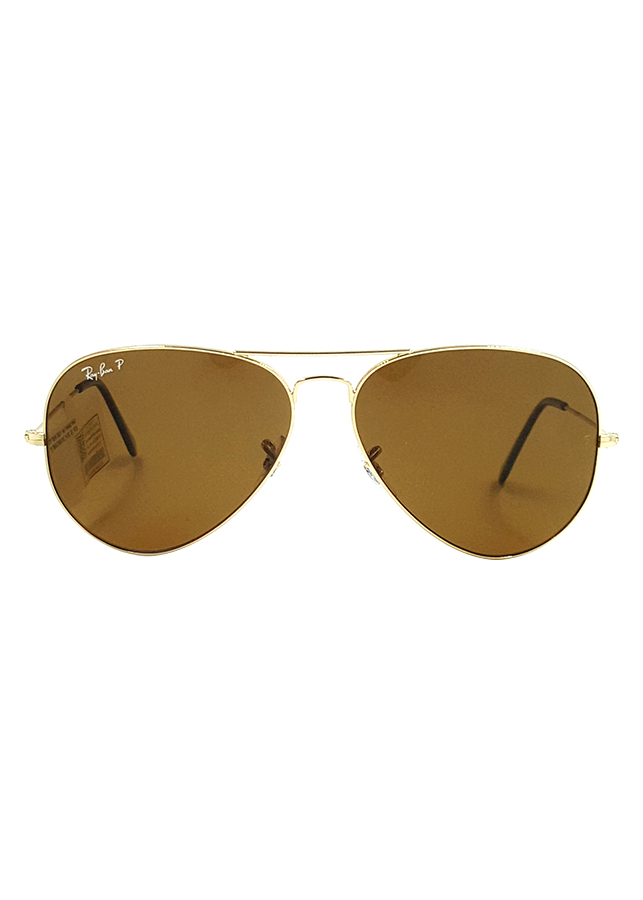Rayban: (81, 358, 117, 387)
